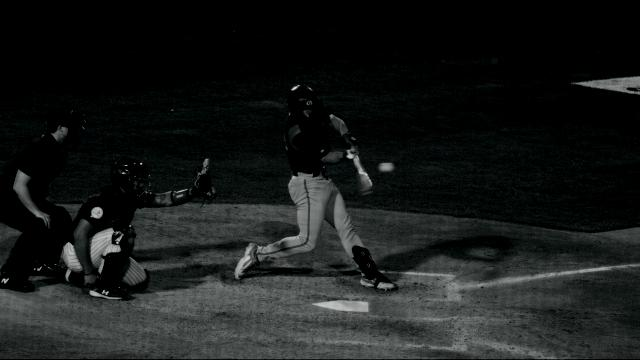ball: (381, 163, 394, 173)
bat: (354, 154, 374, 192)
